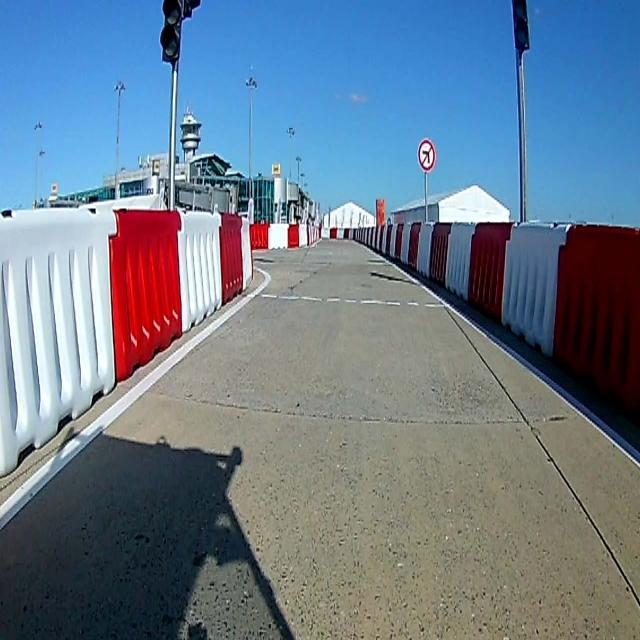soladonulmez: (418, 135, 434, 173)
